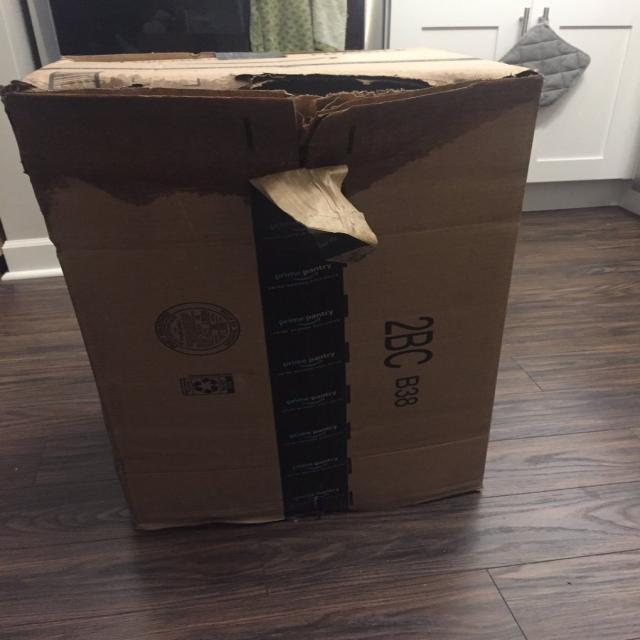wet: (3, 70, 541, 256)
